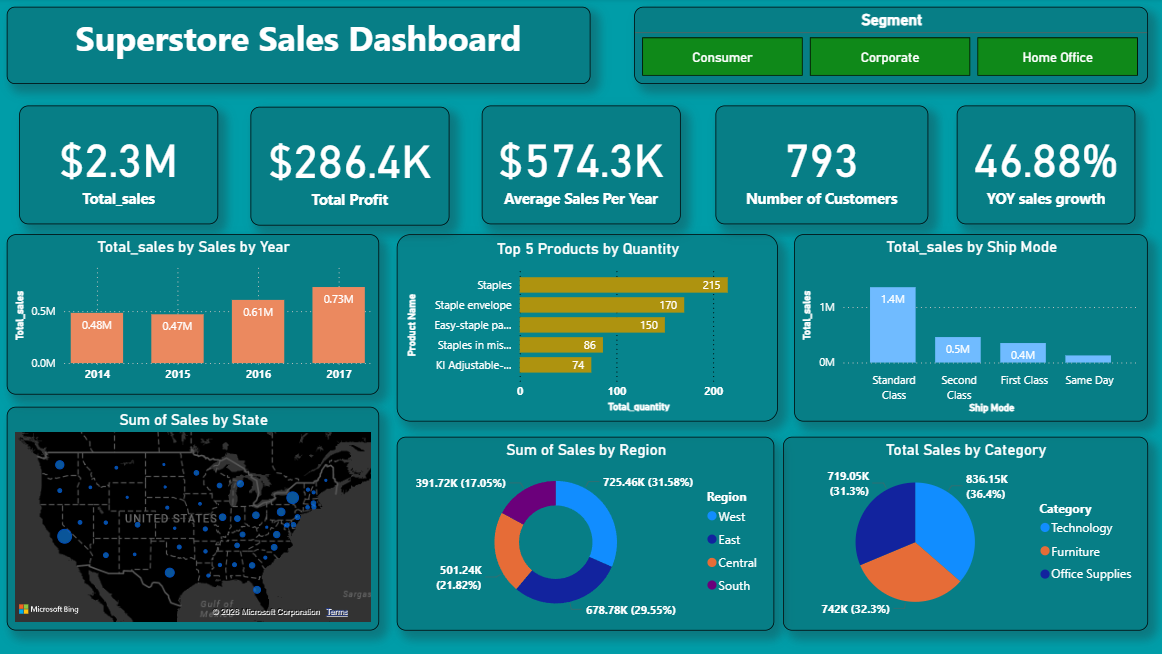

What the dashboard file says about the page in this screenshot:
{"tool":"powerbi","page":{"name":"SUPERSTORE SALES DASHBOARD","canvas":[1280,720],"ordinal":0},"visuals":[{"type":"textbox","box":[9.6,9.6,640.8,85.1],"z":0},{"type":"pieChart","title":"Total Sales by Category","fields":{"Category":["super_cleaned.Category"],"Y":["Sum(super_cleaned.Sales)"]},"box":[861.8,481.6,400.7,212.7],"z":1000},{"type":"donutChart","fields":{"Category":["super_cleaned.Region"],"Y":["Sum(super_cleaned.Sales)"]},"box":[437.7,481.6,414.4,212.7],"z":2000},{"type":"barChart","title":"Top 5 Products by Quantity ","fields":{"Y":["added_table.Total_quantity"],"Category":["super_cleaned.Product Name"]},"box":[437.7,259.3,418.5,205.8],"z":3000},{"type":"map","fields":{"Category":["super_cleaned.State"],"Size":["Sum(super_cleaned.Sales)"]},"box":[9.6,448.7,408.9,245.6],"z":4000},{"type":"card","fields":{"Values":["added_table.Total_sales"]},"box":[23.3,118,218.2,130.4],"z":5000},{"type":"card","fields":{"Values":["added_table.Total Profit"]},"box":[277.2,119.4,218.2,130.4],"z":6000},{"type":"card","fields":{"Values":["added_table.Avrage Sales Per Year"]},"box":[531,118,218.2,130.4],"z":7000},{"type":"columnChart","fields":{"Y":["added_table.Total_sales"],"Category":["super_cleaned.Sales by Year"]},"box":[9.6,259.3,408.9,175.6],"z":8000},{"type":"card","fields":{"Values":["added_table.number of customers"]},"box":[787.7,118,233.3,130.4],"z":9000},{"type":"card","fields":{"Values":["added_table.YOY sales growth"]},"box":[1052.5,118,196.2,130.4],"z":10000},{"type":"advancedSlicerVisual","fields":{"Values":["super_cleaned.Segment"]},"box":[698.5,9.6,564,85.1],"z":11000},{"type":"clusteredColumnChart","fields":{"Category":["super_cleaned.Ship Mode"],"Y":["added_table.Total_sales"]},"box":[874.1,259.3,388.3,205.8],"z":12000}]}

Visuals, with their boxes in screenshot pixels (x1, y1, x2, y2), scaled from the page's 1280x720 canvas onto the 1162x654 screenshot:
textbox: bbox=(9, 9, 590, 86)
"Total Sales by Category" pieChart: bbox=(782, 437, 1146, 631)
donutChart - super_cleaned.Region x Sum(super_cleaned.Sales): bbox=(397, 437, 774, 631)
"Top 5 Products by Quantity " barChart: bbox=(397, 236, 777, 422)
map - super_cleaned.State x Sum(super_cleaned.Sales): bbox=(9, 408, 380, 631)
card - added_table.Total_sales: bbox=(21, 107, 219, 226)
card - added_table.Total Profit: bbox=(252, 108, 450, 227)
card - added_table.Avrage Sales Per Year: bbox=(482, 107, 680, 226)
columnChart - added_table.Total_sales x super_cleaned.Sales by Year: bbox=(9, 236, 380, 395)
card - added_table.number of customers: bbox=(715, 107, 927, 226)
card - added_table.YOY sales growth: bbox=(955, 107, 1134, 226)
advancedSlicerVisual - super_cleaned.Segment: bbox=(634, 9, 1146, 86)
clusteredColumnChart - super_cleaned.Ship Mode x added_table.Total_sales: bbox=(794, 236, 1146, 422)
